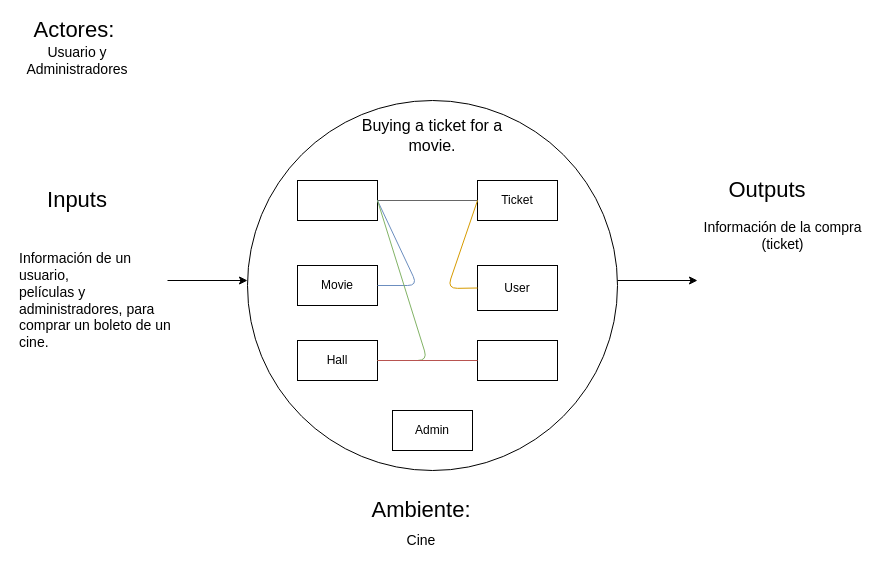
The diagram is 884 pixels wide and 567 high, and some of its shapes have lost their labels. Each missing label, with the centre of its shape:
Schedule: [337,200]
Seat: [517,360]
